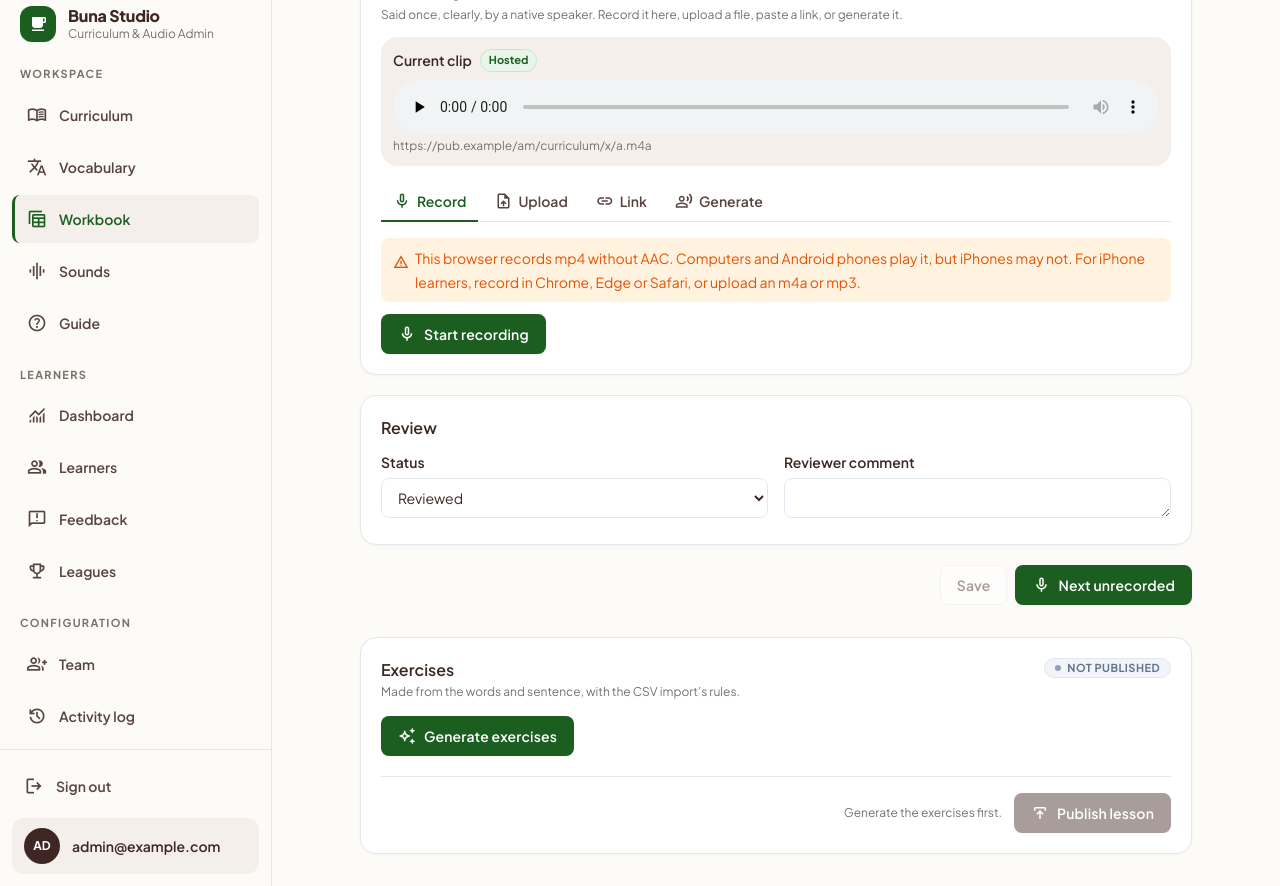
a lesson’s exercises › delete one that should not be published, after asking
(page scrolled)
Click the button "Generate exercises": (478, 736) [381,716,574,756]
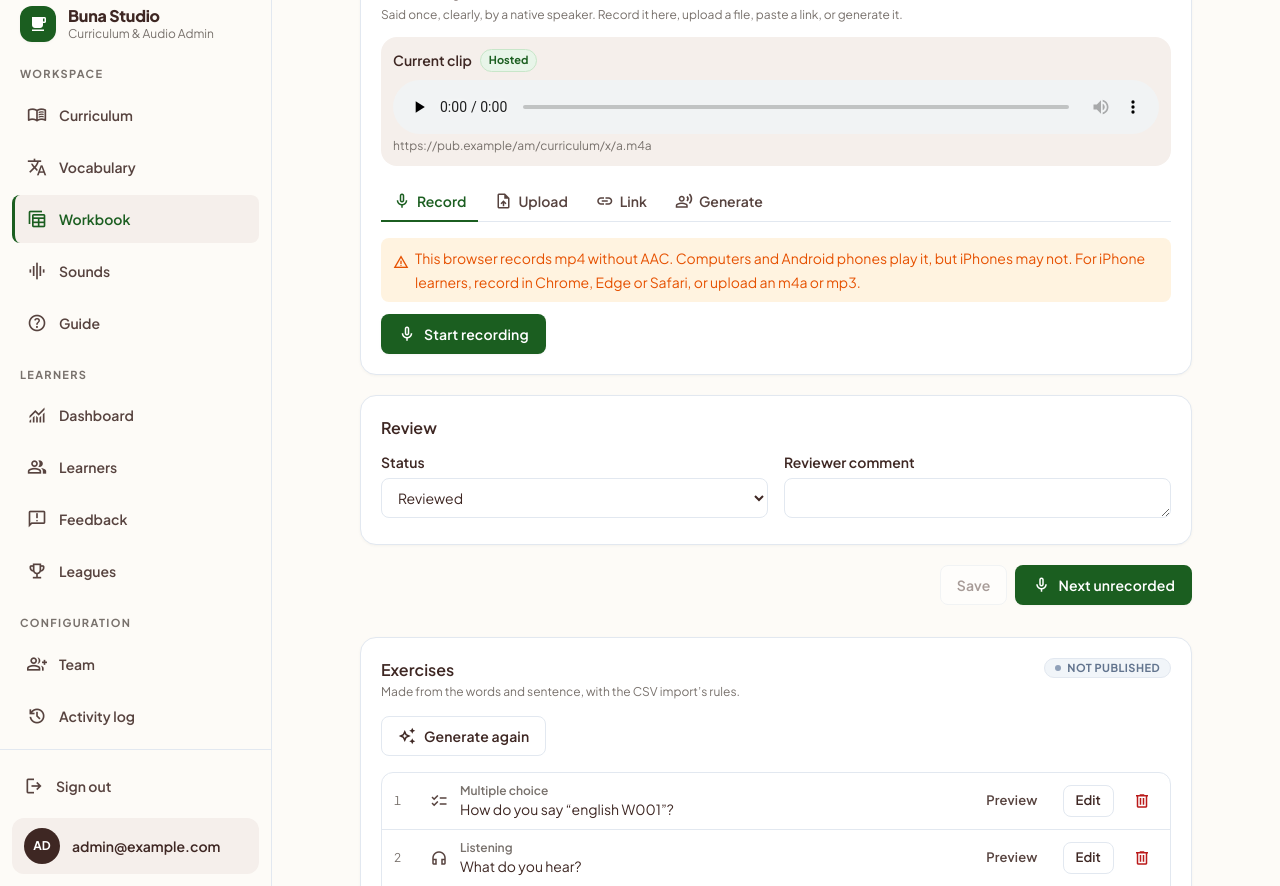
Click the button named "Delete exercise 2": (1142, 858) [1126,842,1158,874]
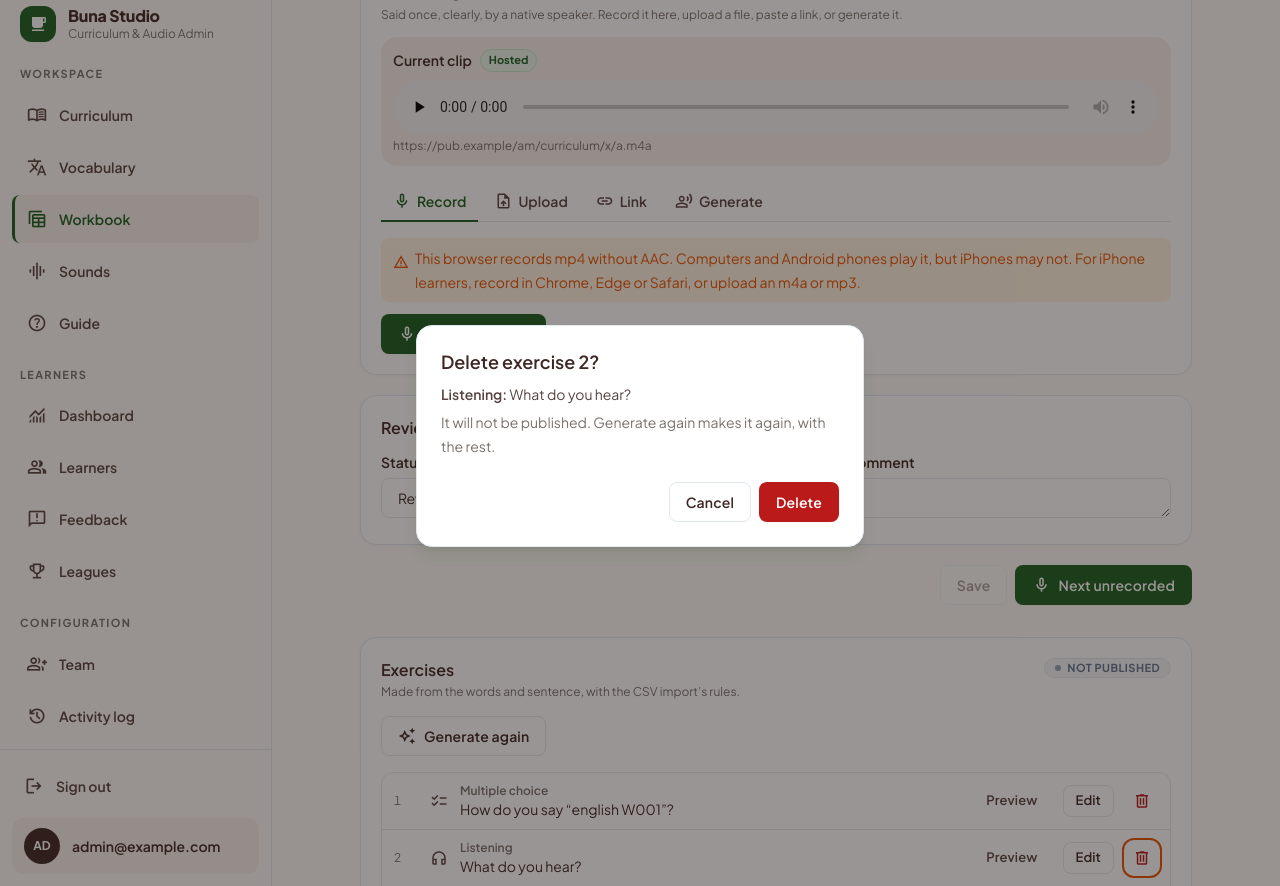
expect the text "Listening:" is shown: met, box [441,385,507,403]
Click the button "Delete": (799, 502) [759,482,839,522]
(page scrolled)
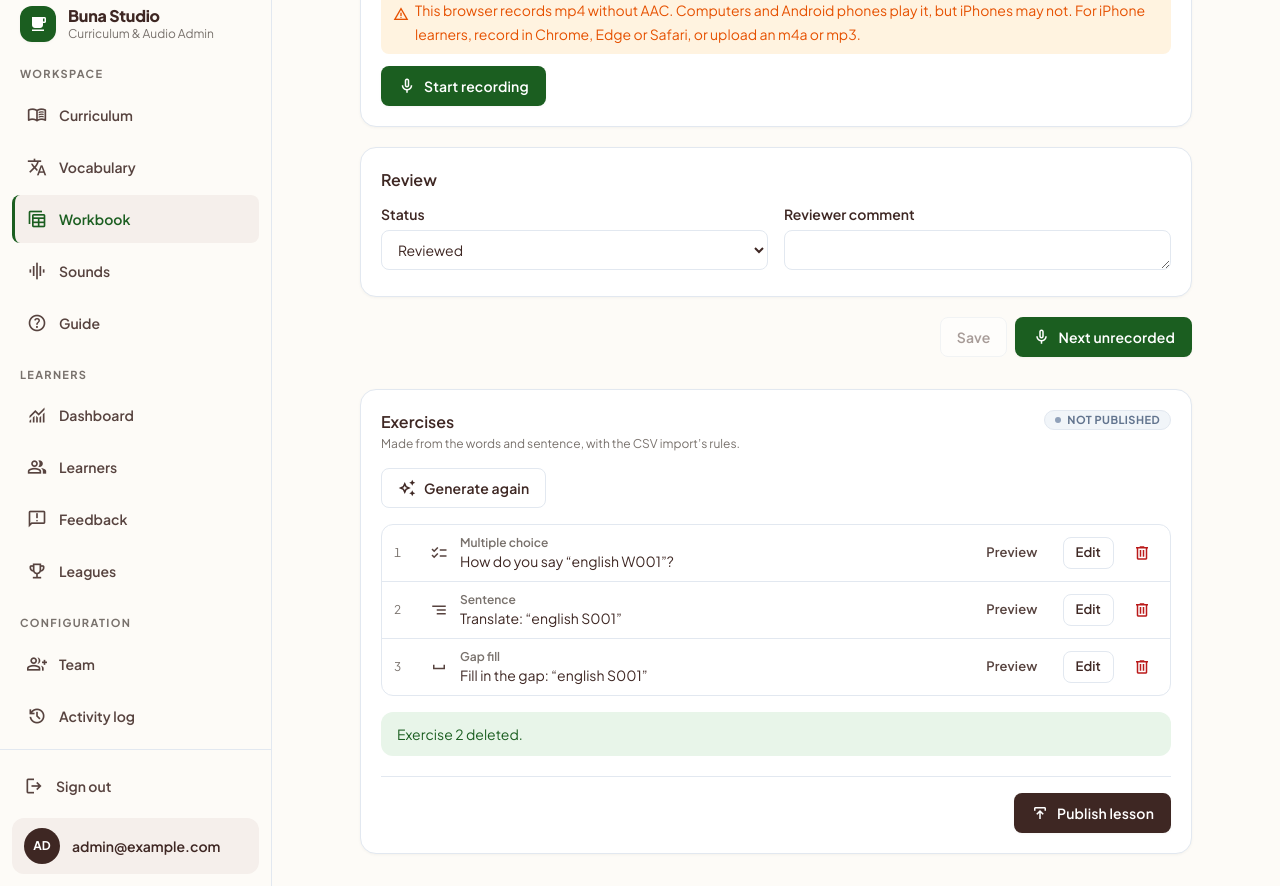
expect the text "Exercise 2 deleted." is shown: met, box [381,712,1171,756]
expect the dialog is gone: met
